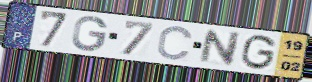7: (122, 19, 156, 58), (38, 9, 70, 49)
C: (155, 25, 195, 62)
G: (70, 15, 110, 53), (239, 34, 279, 72)
N: (197, 28, 243, 67)
